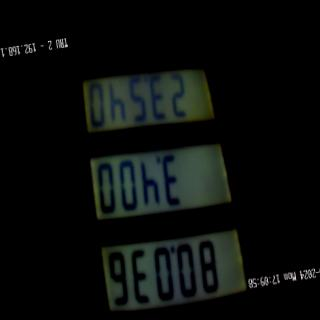screen: (62, 41, 255, 320)
